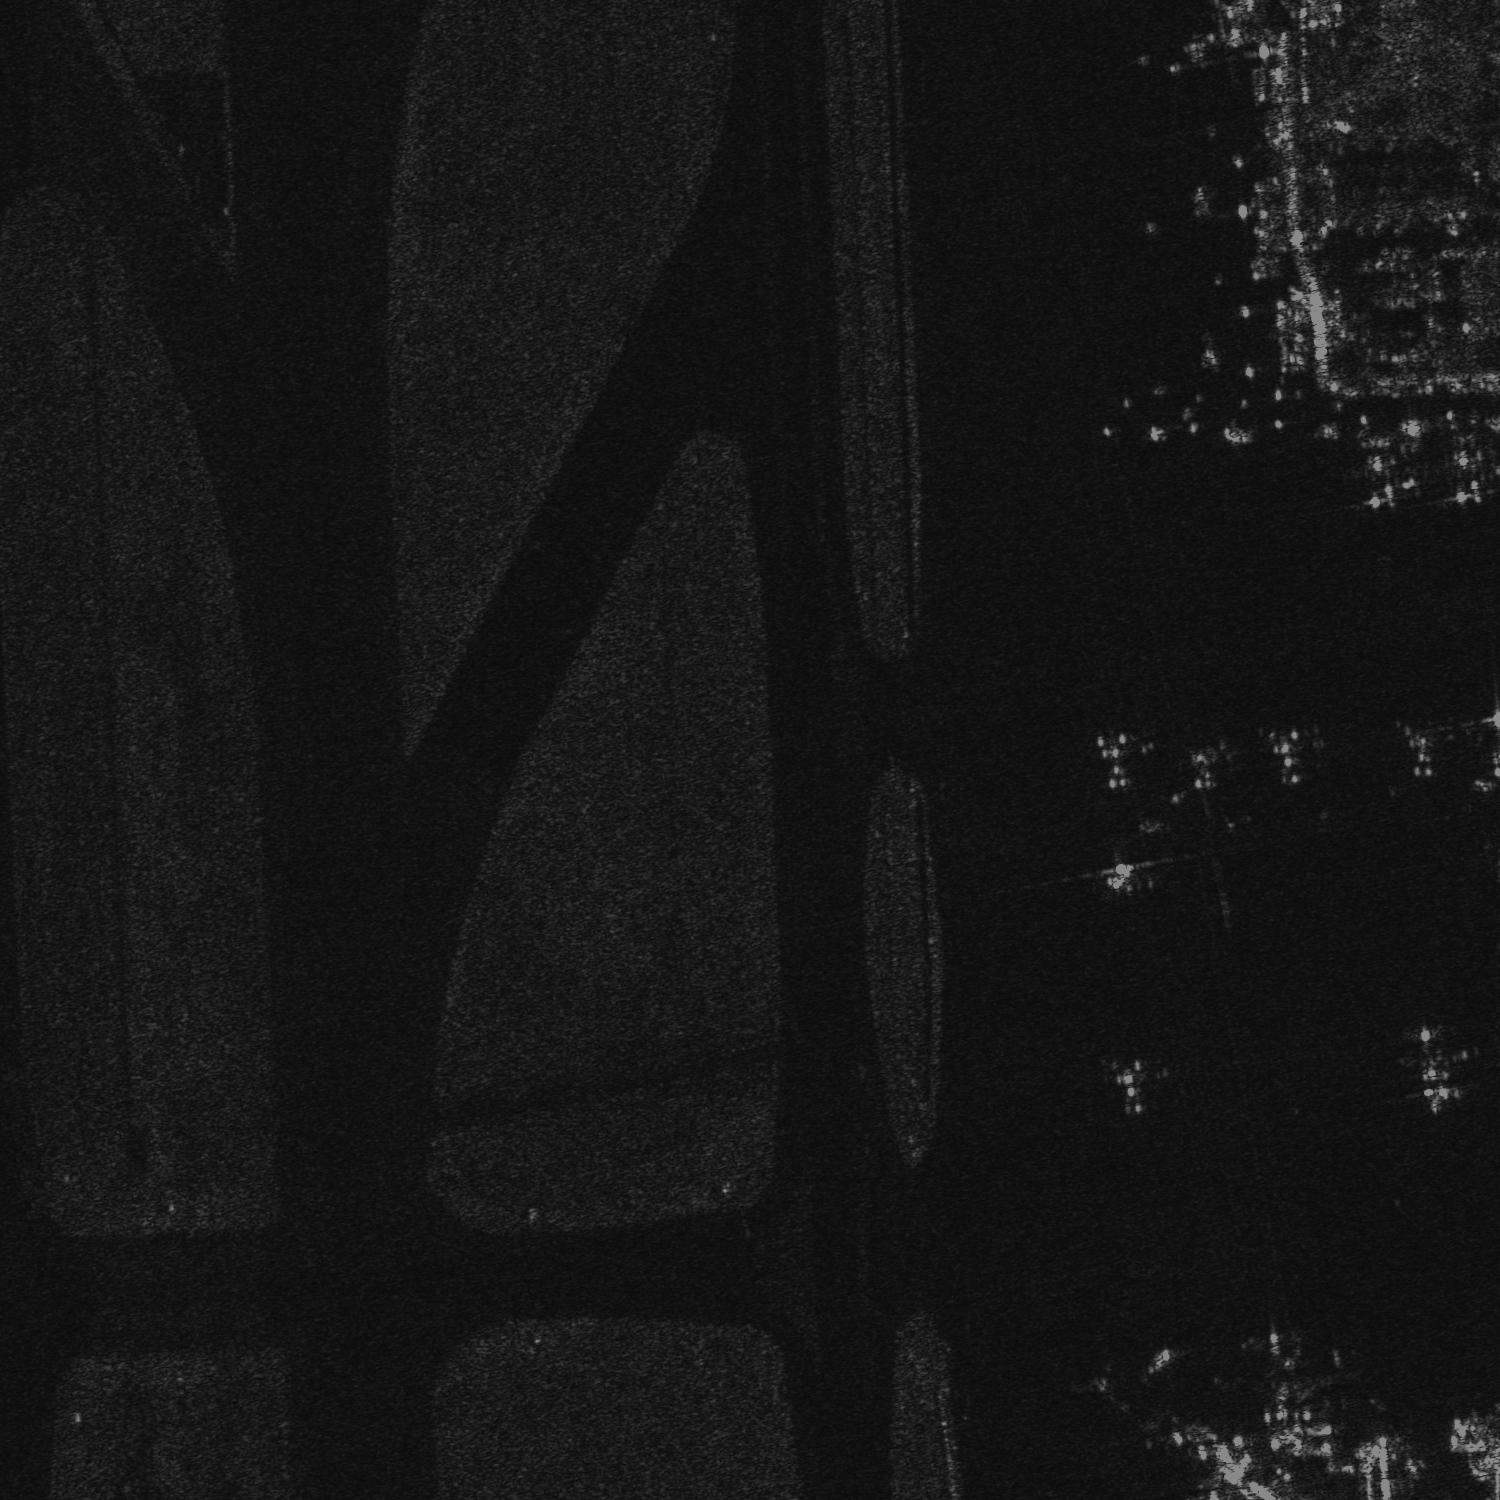ARJ21: (1102, 1048, 1157, 1124), (1098, 848, 1152, 894)
Boeing737: (1342, 426, 1430, 512)
other: (1243, 1321, 1331, 1457), (1389, 1016, 1486, 1118), (1165, 738, 1242, 806), (1440, 422, 1499, 505), (1088, 721, 1135, 799), (1266, 728, 1315, 797), (1468, 694, 1499, 799), (1397, 724, 1445, 790)
